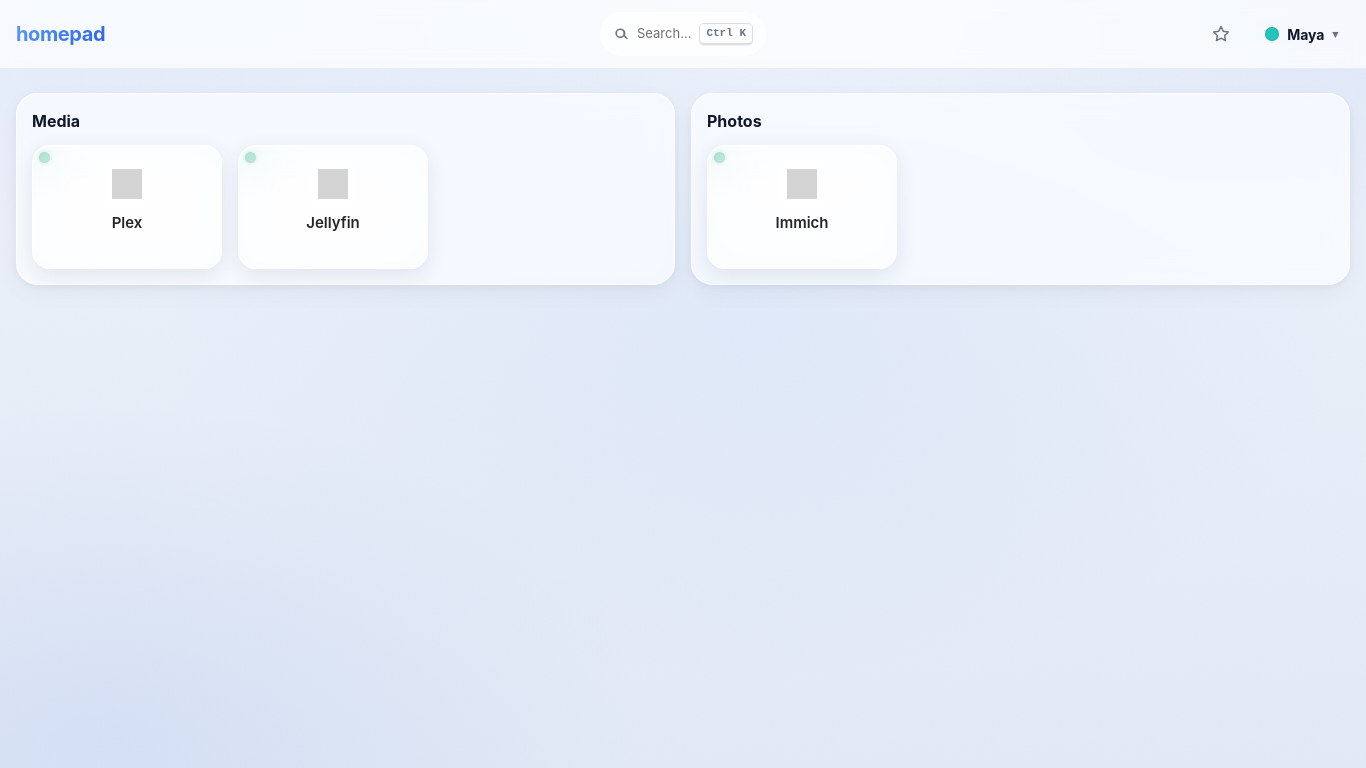
Kid shell — favorites (D3, TC-006) › a "Pick favorites" toggle reveals the ★, which writes only the favorite
The width and height of the screenshot is (1366, 768).
Step 1. Click the button named "Pick favorites" → [1221, 34], box [1199,12,1243,56]
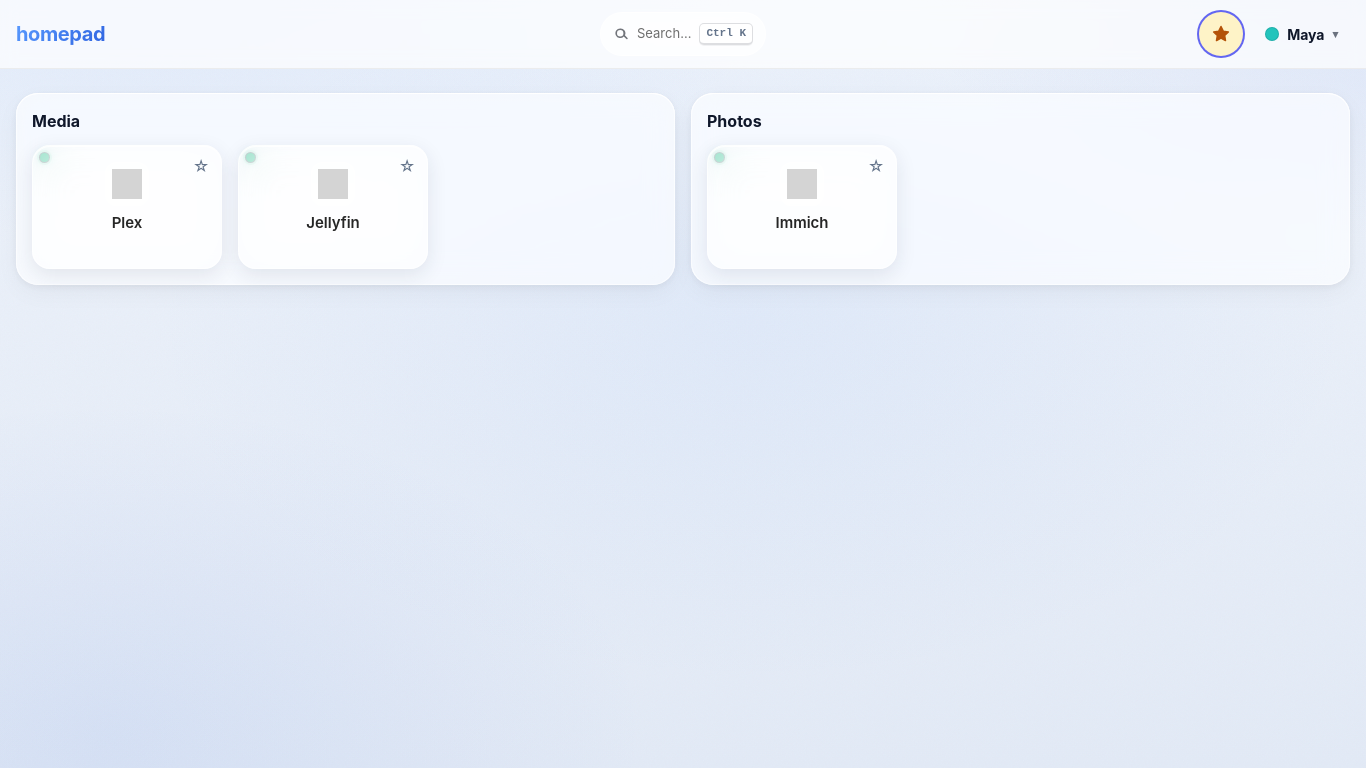
Check: the button named "Pick favorites" is pressed, box [1199,12,1243,56]
Step 2. Click the button named "Pin Plex to favorites" → [201, 166], box [184,149,218,183]
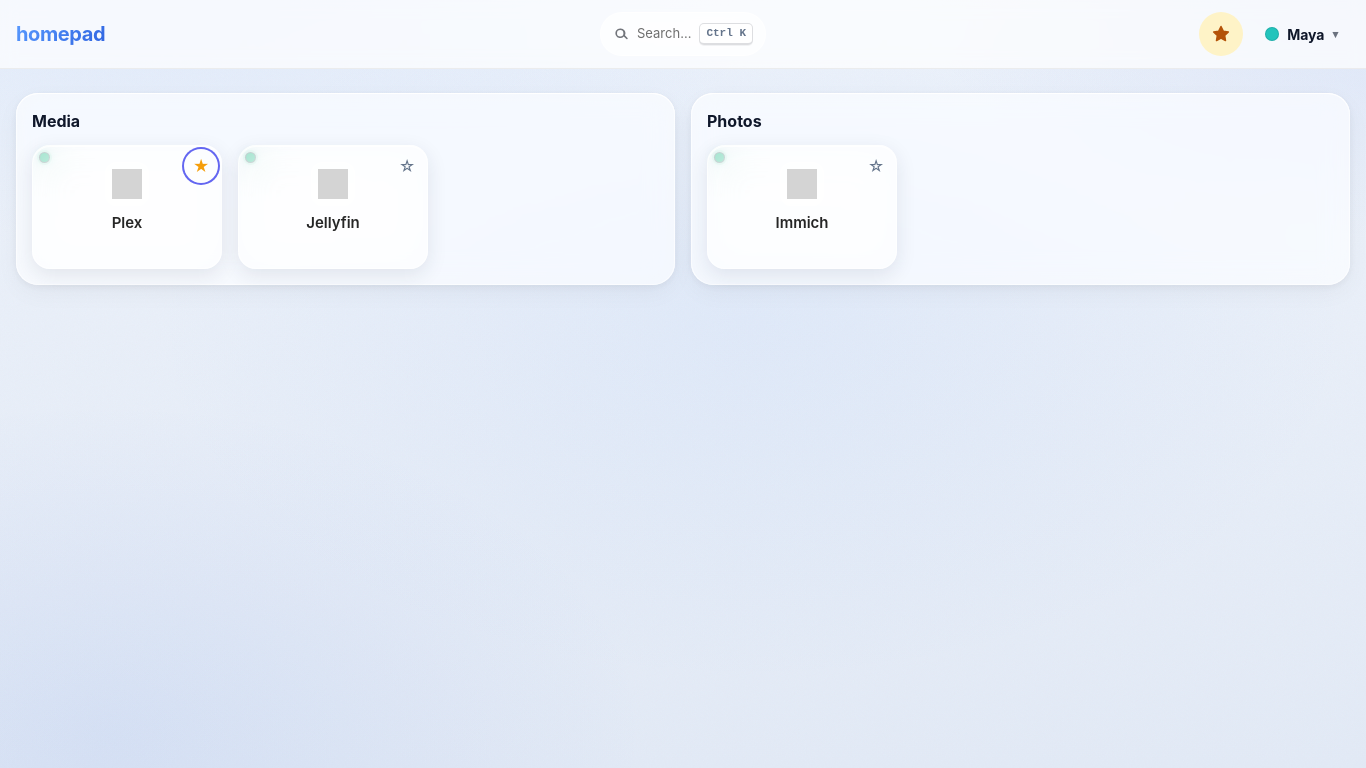
Step 3. Click the button named "Pick favorites" → [1221, 34], box [1199,12,1243,56]
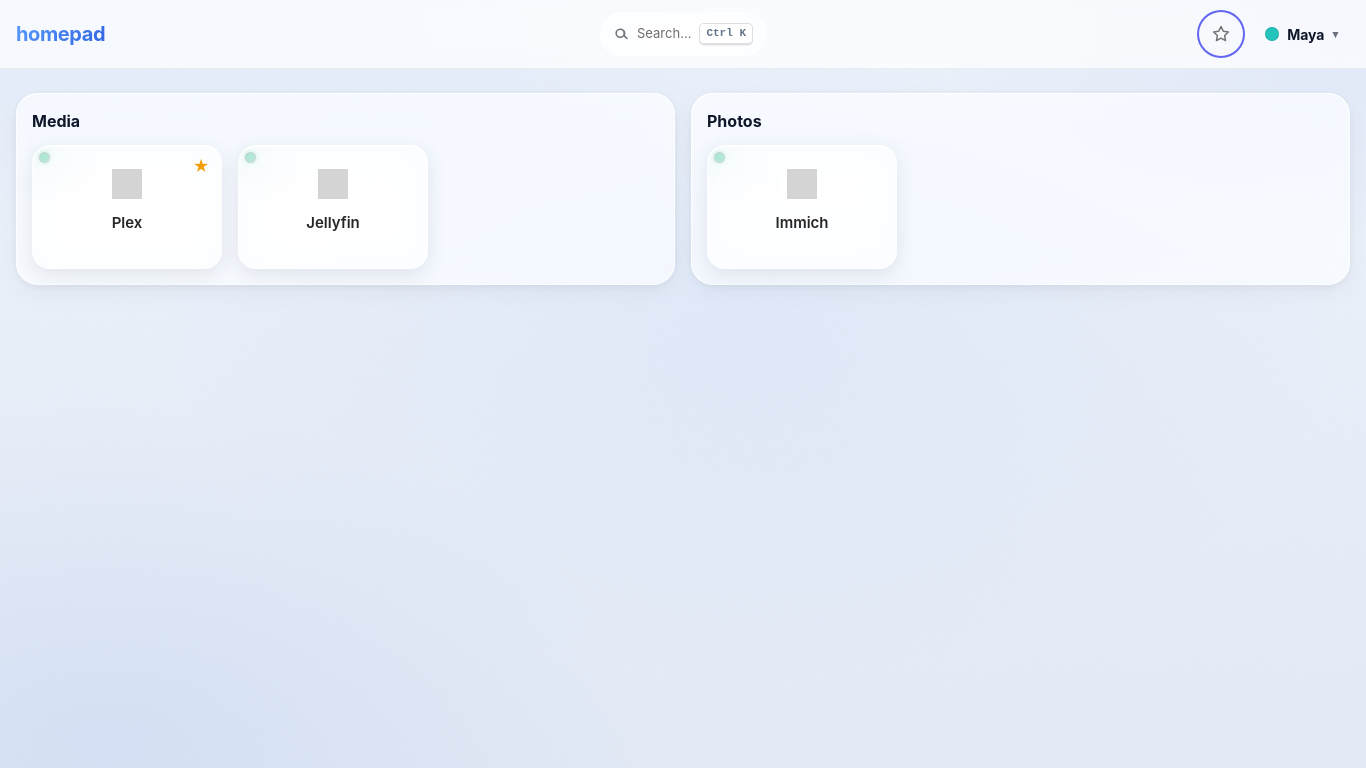
Check: the button with test id "tile-favorite" is gone
